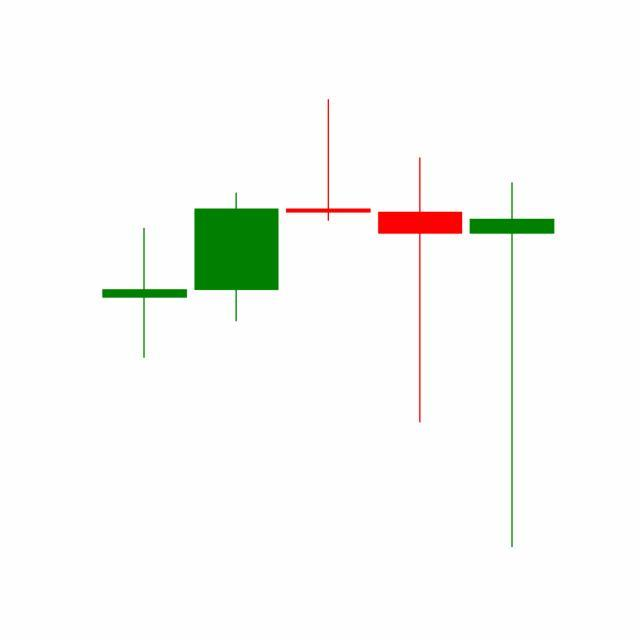Spinning Top: (374, 155, 468, 427)
